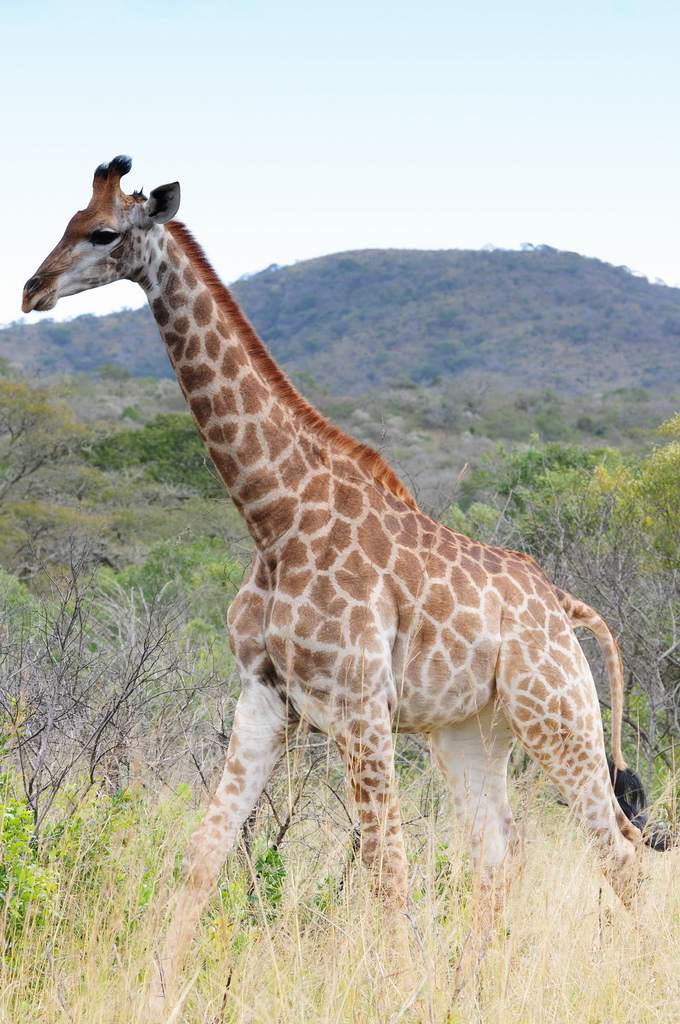giraffe: (27, 177, 672, 933)
